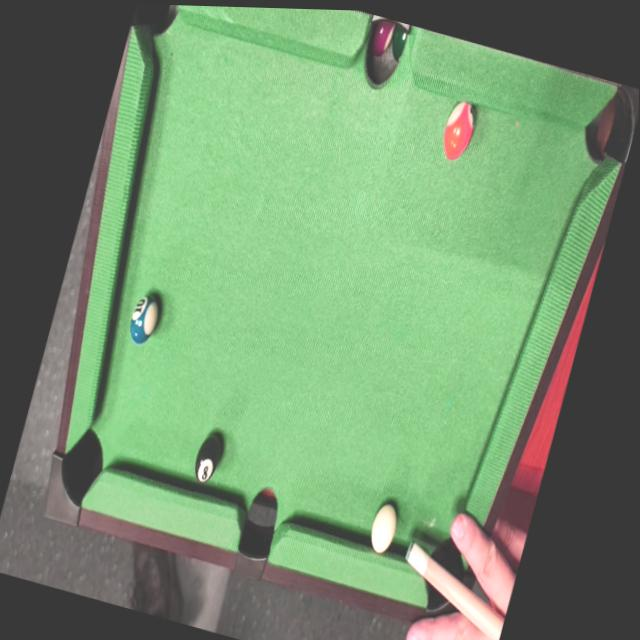cue ball: (363, 497, 404, 564)
other: (434, 98, 479, 166), (122, 288, 165, 349), (187, 433, 224, 492)
